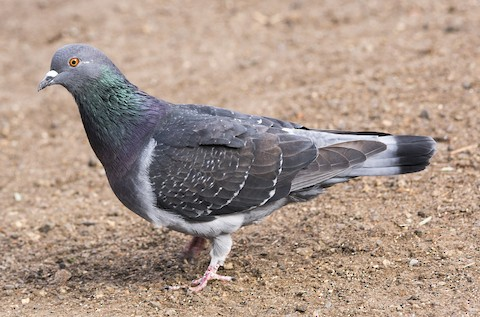pigeon: (36, 38, 439, 296)
